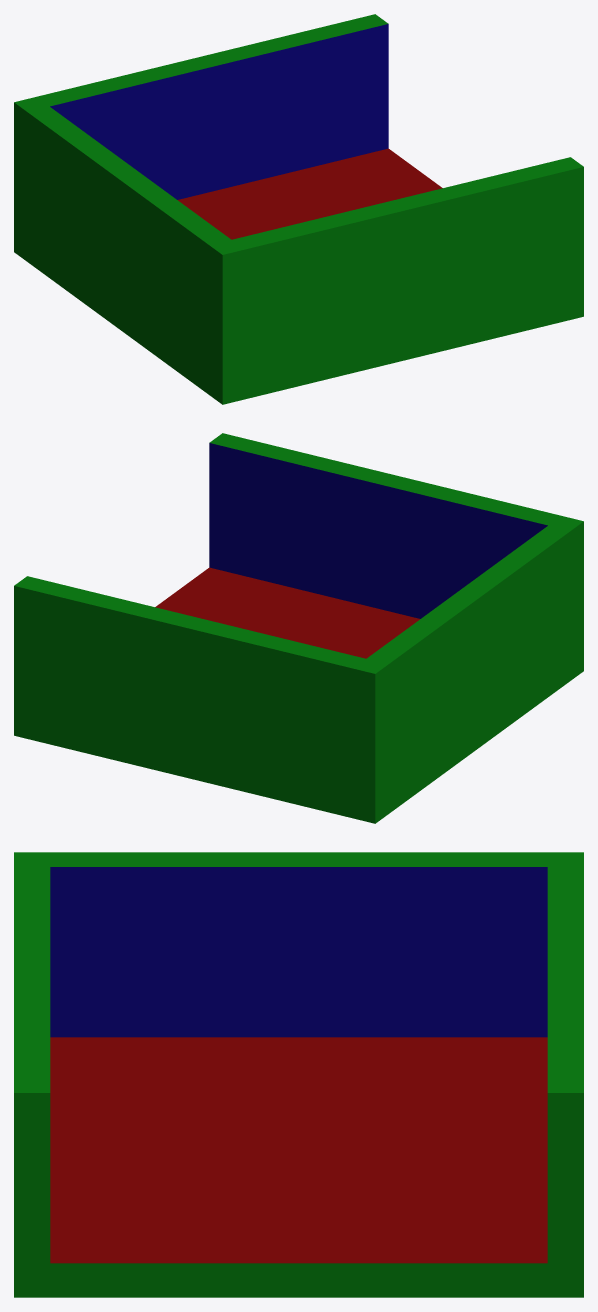
The model's file is start_roomUV.fbx.
3 views of the same model, one above another, from view 1: azimuth 30°, elevation 25°; view 2: azimuth 150°, elevation 25°; view 3: azimuth 270°, elevation 25° (orthographic). The views are drawn at different scales.
Parts seen in each view (by area): view 1: Cube; view 2: Cube; view 3: Cube.
Boxes of the visible parts, x1=… form: Cube: x1=14, y1=14, x2=583, y2=404; Cube: x1=14, y1=433, x2=583, y2=823; Cube: x1=14, y1=852, x2=583, y2=1297.
Bounding box in the file's own units: 3000 × 1189 × 3000.
